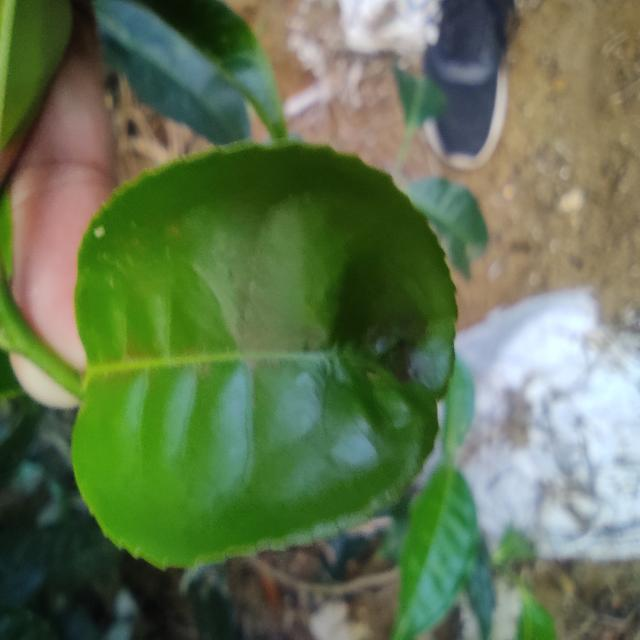Category C 4-7 days: (24, 120, 494, 590)
